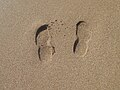human_foot_print: (35, 24, 54, 62), (73, 21, 90, 56)
